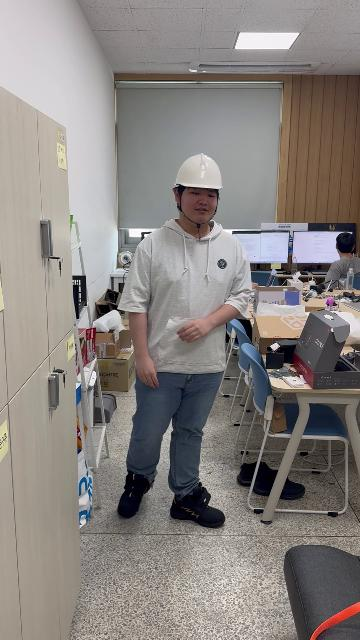helmet_worn: (172, 152, 225, 190)
shoe_not_worn: (238, 461, 303, 498), (237, 460, 270, 487)
shoe_worn: (170, 483, 225, 528), (116, 472, 155, 518)
vest_not_worn: (144, 226, 232, 374)
